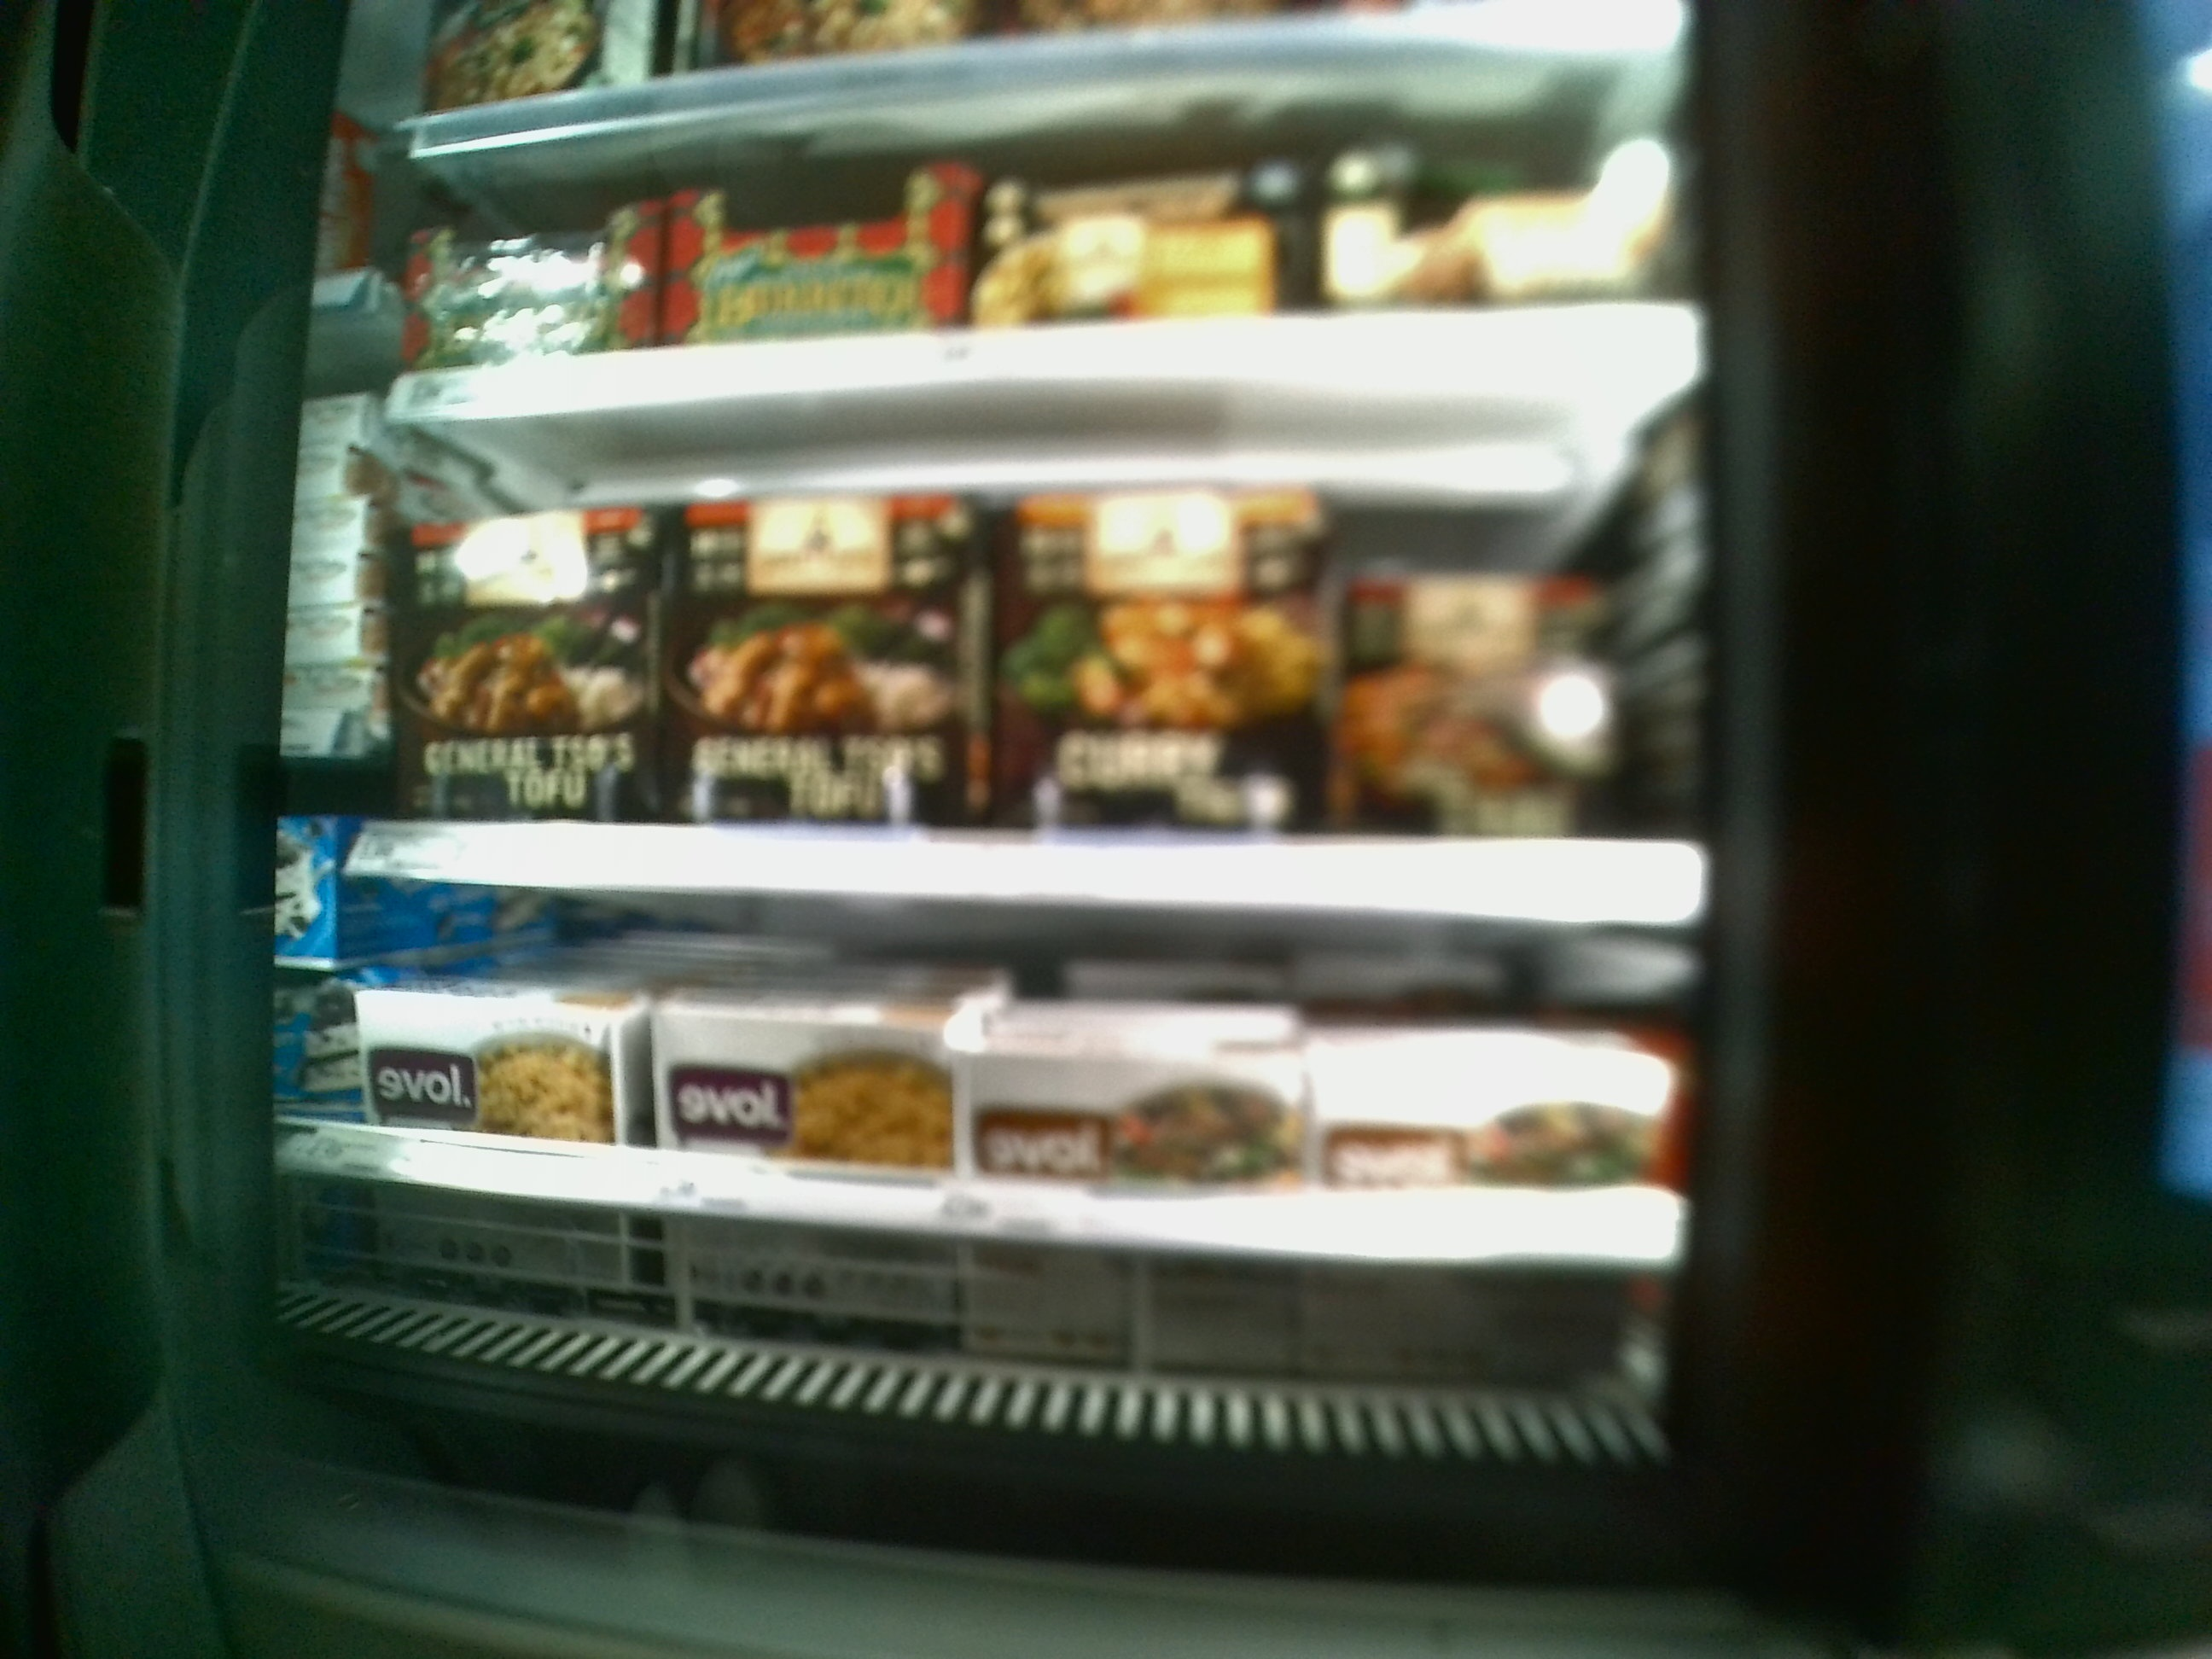frozen-food-shelf: (341, 420, 1709, 918), (291, 927, 1709, 1270)
